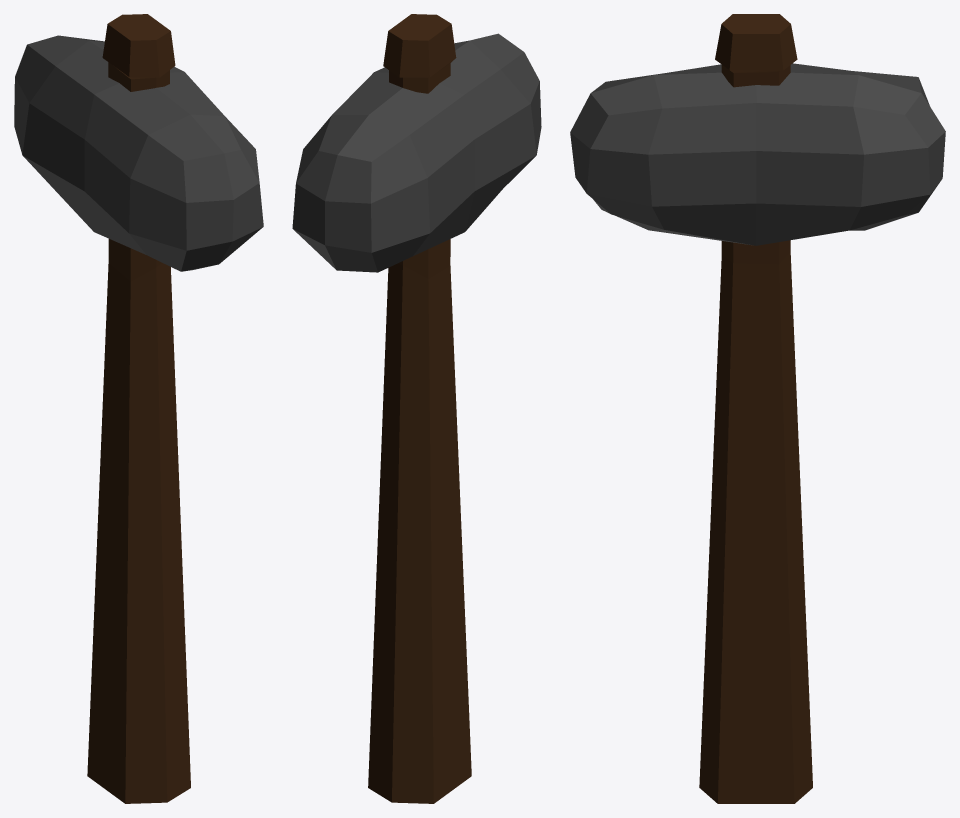
File: hammer.obj
The picture shows the model from 3 angles, left to right: view 1: azimuth 30°, elevation 25°; view 2: azimuth 150°, elevation 25°; view 3: azimuth 270°, elevation 25°; orthographic projection.
Parts seen in each view (by area): view 1: Hammer_Cube; view 2: Hammer_Cube; view 3: Hammer_Cube.
Part boxes in pixels (bbox=[...]): Hammer_Cube: bbox=[14, 14, 263, 803]; Hammer_Cube: bbox=[292, 14, 541, 803]; Hammer_Cube: bbox=[570, 14, 945, 803].
Size of the model in its own units: 0.1627 by 0.9238 by 0.4118.
